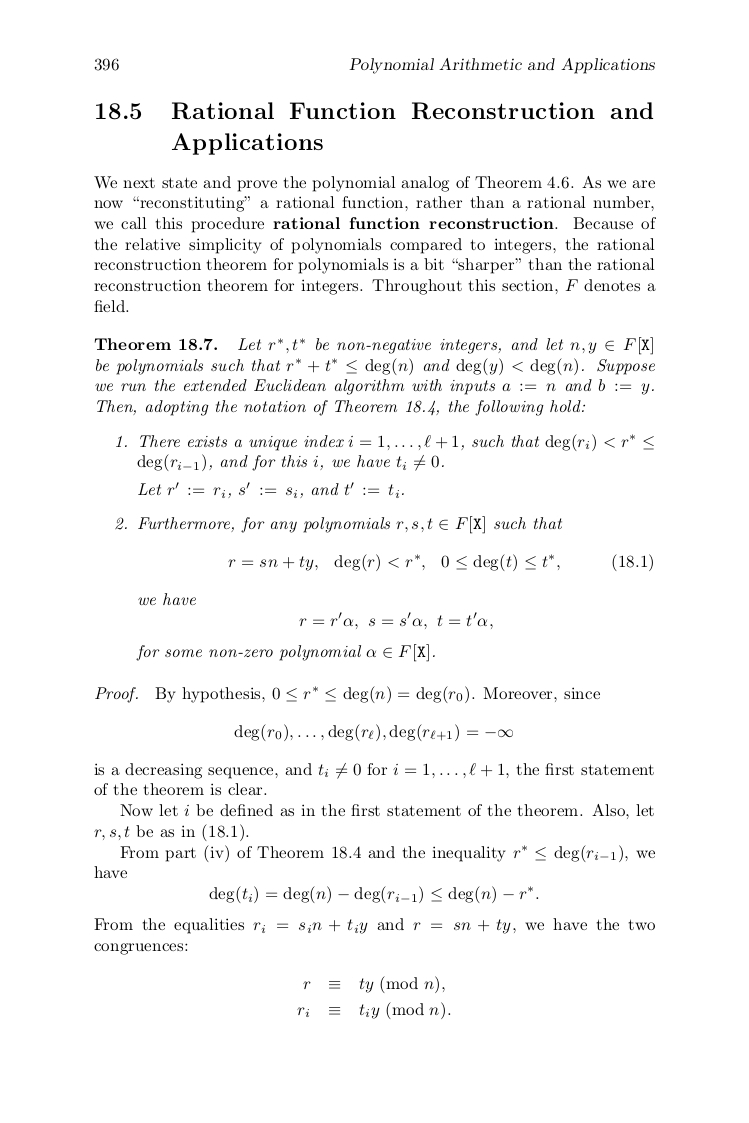formula: (228, 553, 652, 572), (209, 885, 538, 904), (234, 723, 512, 742), (299, 611, 492, 629), (297, 1001, 450, 1020), (303, 975, 444, 994)
